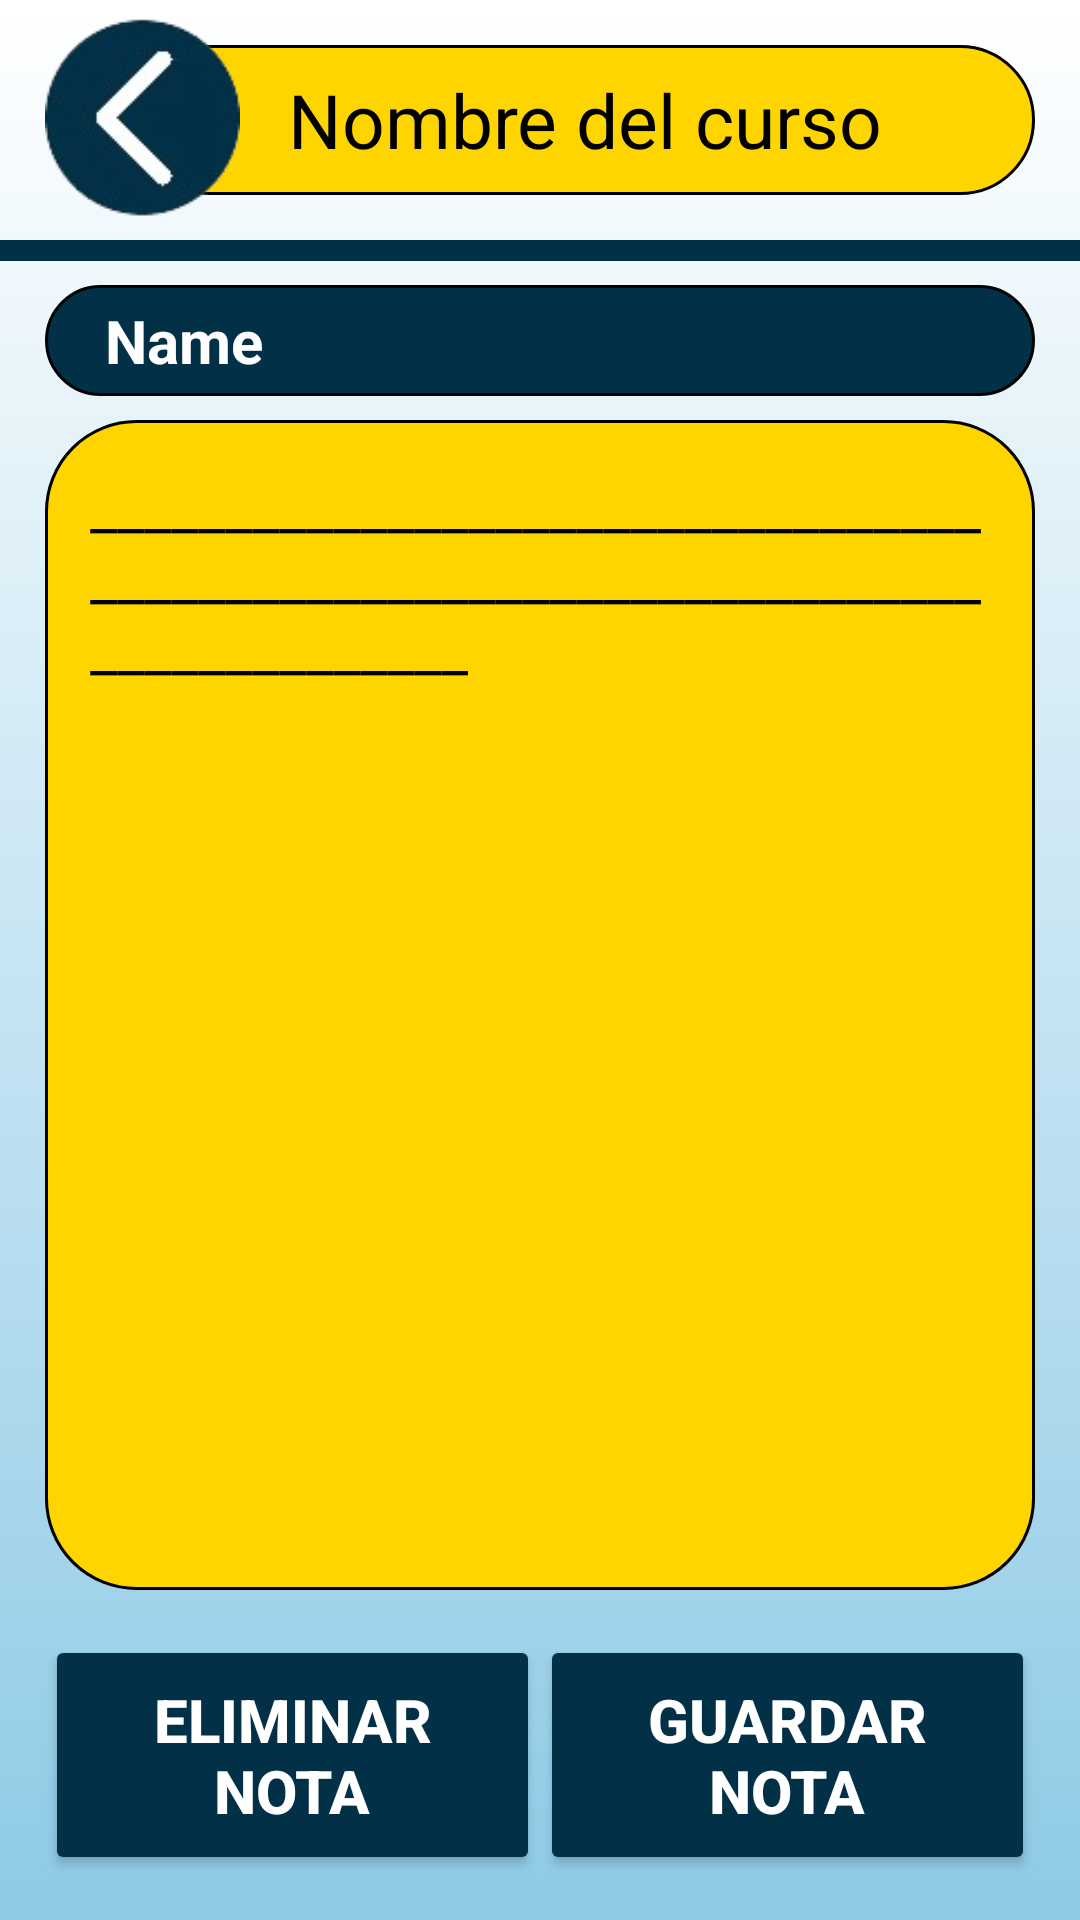

Icon click points for this 1080px×1920px phone screenshot, format (x,y):
back: (120,120)
